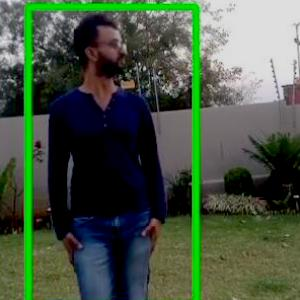follow: (61, 0, 216, 299), (51, 4, 159, 299)
